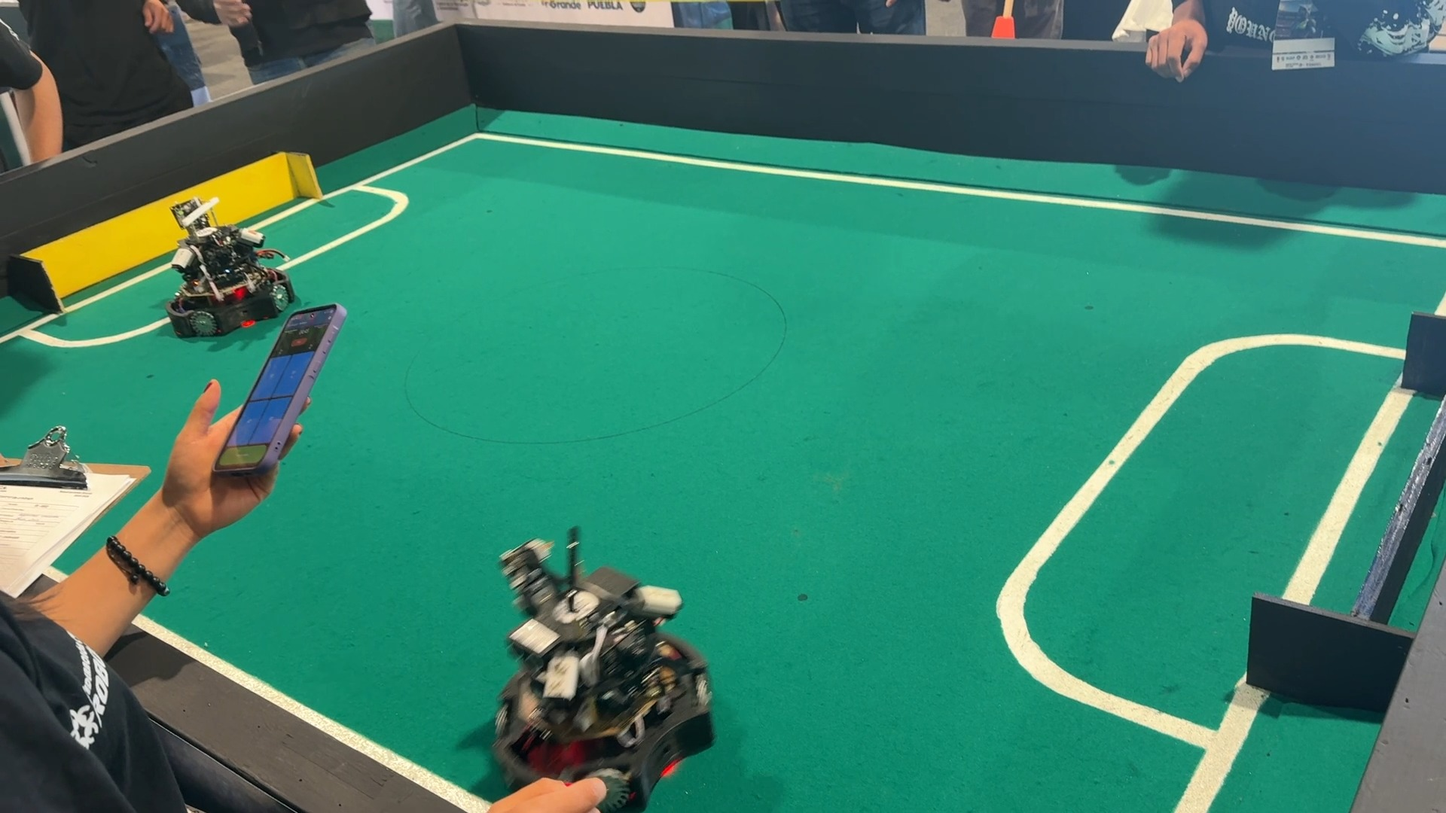Robot: (437, 518, 728, 813), (136, 183, 298, 354)
